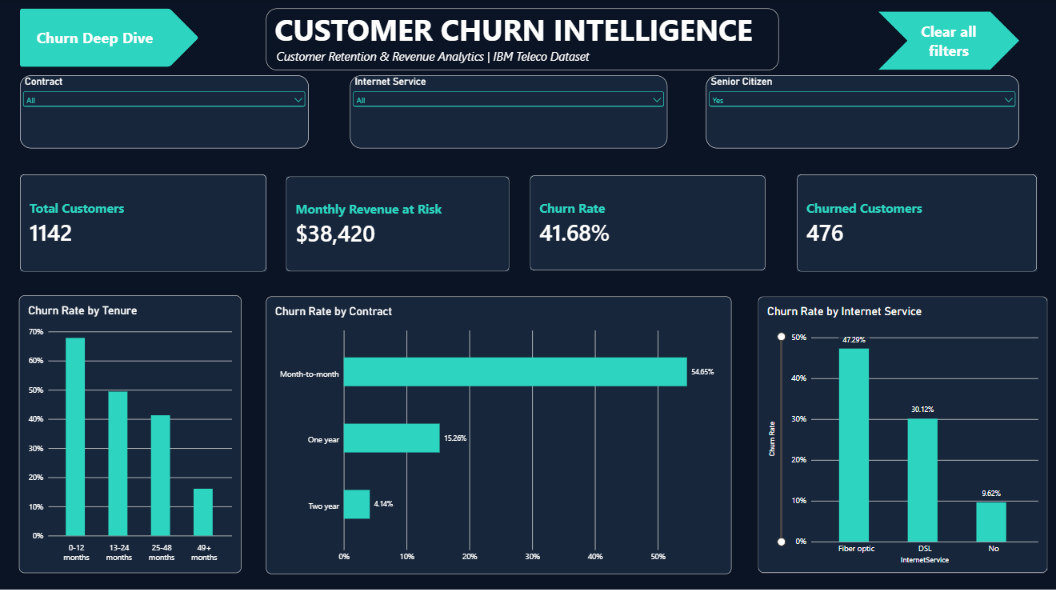

This screenshot's page, from the dashboard's own definition file:
{"tool":"powerbi","page":{"name":"Executive Overview","canvas":[1920,1080],"ordinal":0},"visuals":[{"type":"cardVisual","fields":{"Data":["Customers.Total Customers"]},"box":[36,318,446,176],"z":0},{"type":"cardVisual","fields":{"Data":["Customers.Churned Customers"]},"box":[1442,318,434,176],"z":1000},{"type":"cardVisual","fields":{"Data":["Customers.Churn Rate"]},"box":[960,320,426,172],"z":2000},{"type":"cardVisual","fields":{"Data":["Customers.Monthly Revenue at Risk"]},"box":[518,322,404,172],"z":3000},{"type":"clusteredBarChart","title":"Churn Rate by Contract","fields":{"Category":["Customers.Contract"],"Y":["Customers.Churn Rate"]},"box":[482,540,842,502],"z":4000},{"type":"clusteredColumnChart","title":"Churn Rate by Tenure","fields":{"Category":["Customers.TenureGroup"],"Y":["Customers.Churn Rate"]},"box":[35,537.5,402.5,502.5],"z":5000},{"type":"slicer","title":"Select Contr","fields":{"Values":["Customers.Contract"]},"box":[36,140,522,132],"z":6000},{"type":"slicer","title":"                                 Internet Service","fields":{"Values":["Customers.InternetService"]},"box":[634,140,574,132],"z":7000},{"type":"slicer","fields":{"Values":["Customers.SeniorCitizenGroup"]},"box":[1278,140,566,132],"z":8000},{"type":"lineClusteredColumnComboChart","title":"Churn Rate by Internet Service","fields":{"Category":["Customers.InternetService"],"Y":["Customers.Churn Rate"]},"box":[1372,540,524,500],"z":9000},{"type":"textbox","box":[482,18,928,112],"z":10000},{"type":"actionButton","box":[1588,24,256,106],"z":11000},{"type":"actionButton","title":"dsfsds","box":[36,18,324,106],"z":11001}]}

Visuals, with their boxes in screenshot pixels (x1, y1, x2, y2), scaled from the page's 1920x1080 canvas onto the 1056x590 screenshot:
cardVisual - Customers.Total Customers: x1=20 y1=174 x2=265 y2=270
cardVisual - Customers.Churned Customers: x1=793 y1=174 x2=1032 y2=270
cardVisual - Customers.Churn Rate: x1=528 y1=175 x2=762 y2=269
cardVisual - Customers.Monthly Revenue at Risk: x1=285 y1=176 x2=507 y2=270
"Churn Rate by Contract" clusteredBarChart: x1=265 y1=295 x2=728 y2=569
"Churn Rate by Tenure" clusteredColumnChart: x1=19 y1=294 x2=241 y2=568
"Select Contr" slicer: x1=20 y1=76 x2=307 y2=149
"                                 Internet Service" slicer: x1=349 y1=76 x2=664 y2=149
slicer - Customers.SeniorCitizenGroup: x1=703 y1=76 x2=1014 y2=149
"Churn Rate by Internet Service" lineClusteredColumnComboChart: x1=755 y1=295 x2=1043 y2=568
textbox: x1=265 y1=10 x2=776 y2=71
actionButton: x1=873 y1=13 x2=1014 y2=71
"dsfsds" actionButton: x1=20 y1=10 x2=198 y2=68
